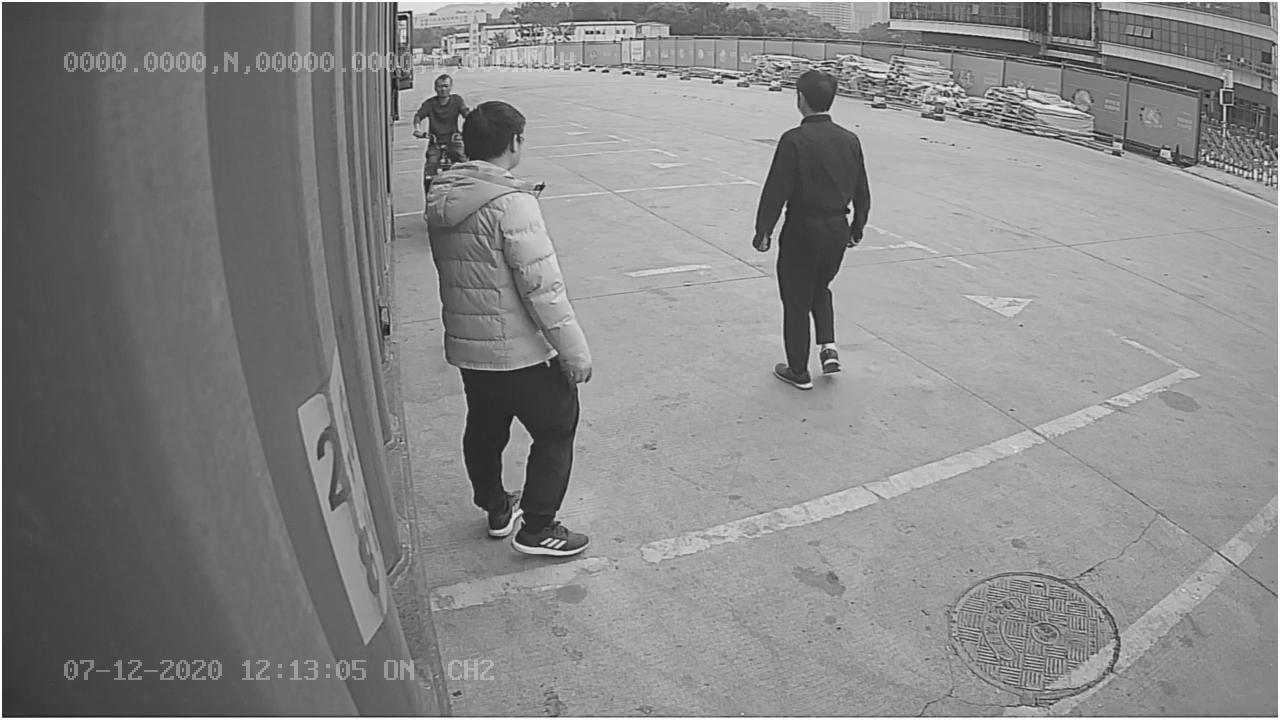person: (753, 62, 872, 389)
